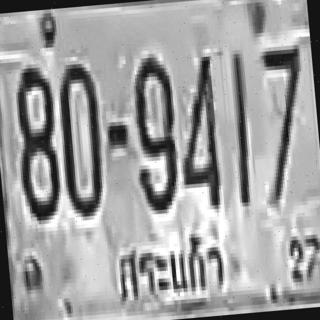N00: (54, 59, 105, 214)
N01: (226, 50, 253, 203)
N04: (170, 49, 222, 208)
N07: (256, 43, 310, 202)
N08: (11, 63, 60, 218)
N09: (127, 52, 180, 212)
P55: (109, 222, 235, 314)
